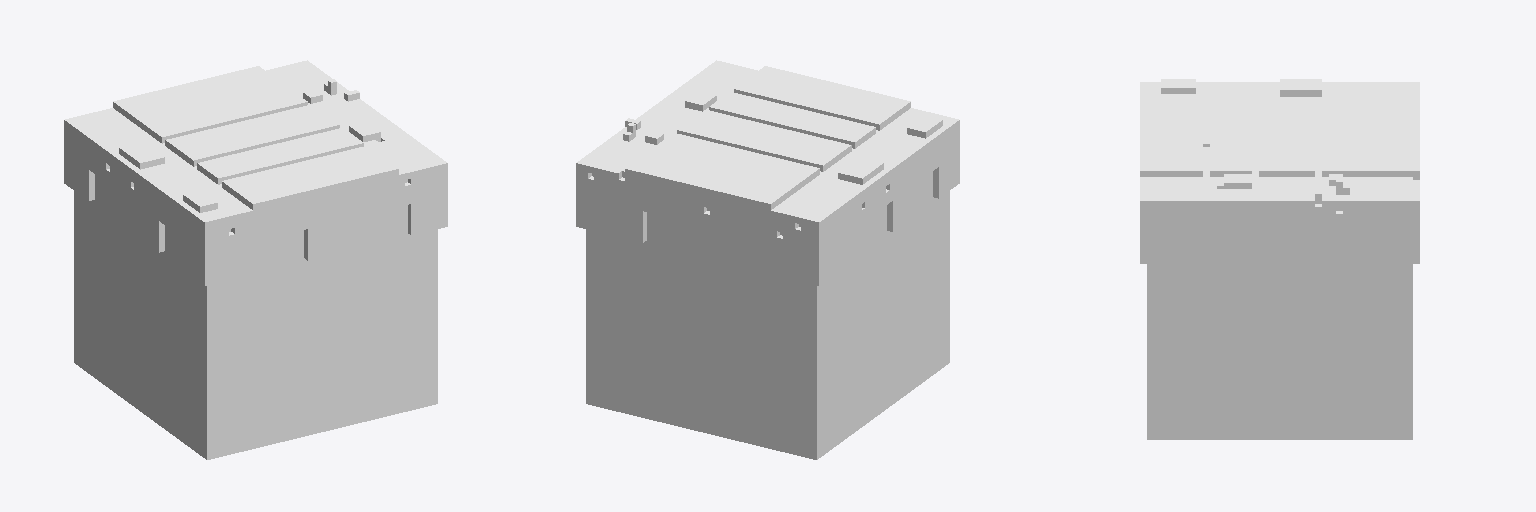
The model's file is tile_base_road_4.obj.
3 renders of one model, left to right at view 1: azimuth 30°, elevation 25°; view 2: azimuth 150°, elevation 25°; view 3: azimuth 270°, elevation 25°, orthographic.
Visible parts, largest first — view 1: tile_base_road_4; view 2: tile_base_road_4; view 3: tile_base_road_4.
Boxes of the visible parts, <box> form: tile_base_road_4: <box>64,60,447,459</box>; tile_base_road_4: <box>576,60,959,459</box>; tile_base_road_4: <box>1140,79,1419,439</box>.
Size of the model in its own units: 40 by 40 by 40.